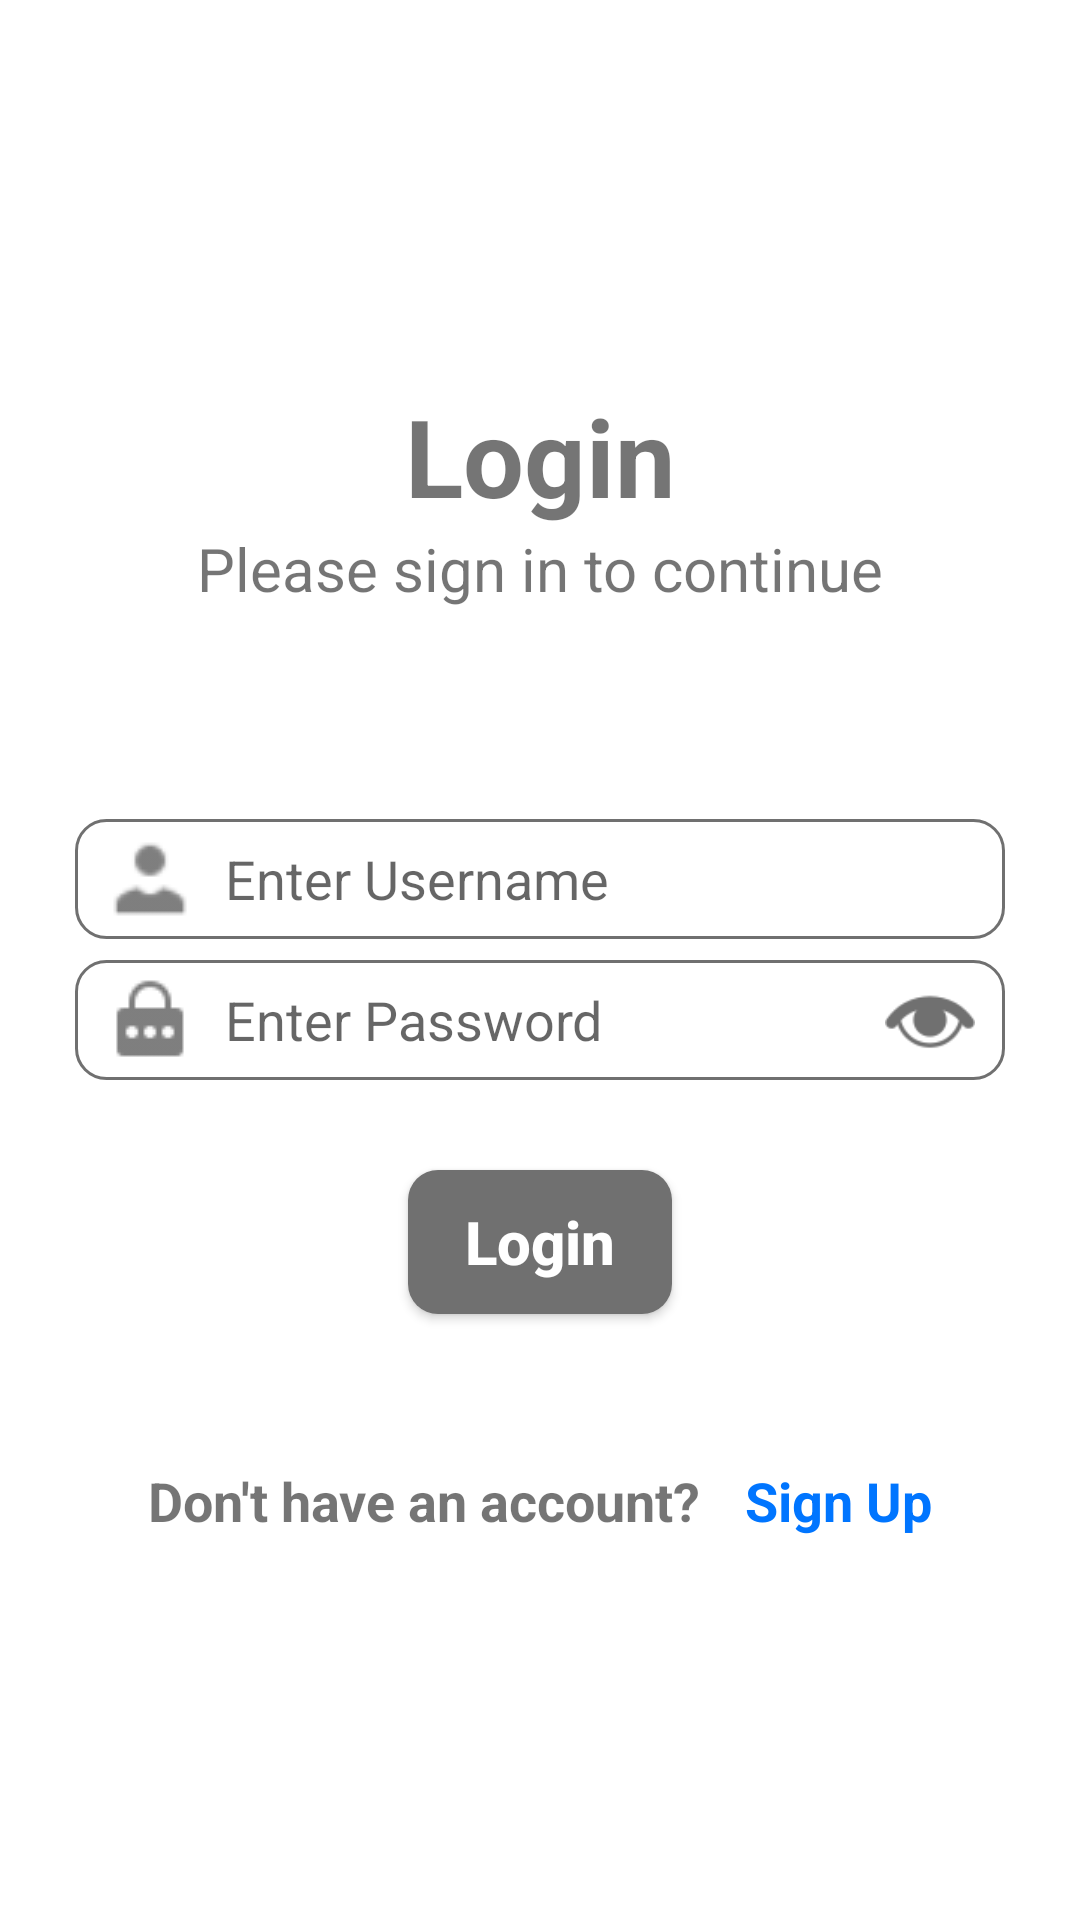

Where icons sit on this 1080 x 1920 app screen, as [x1=x1, y1=y1, x2=x2, y2=y2]:
show password: [x1=885, y1=995, x2=975, y2=1048]
